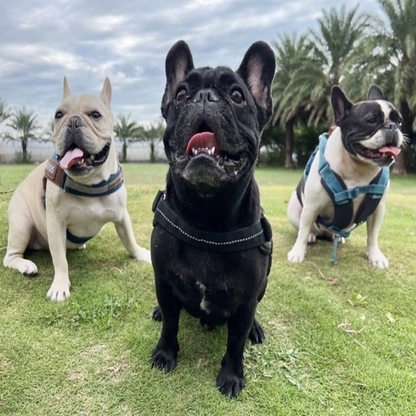bulldog: (148, 37, 279, 400), (1, 72, 150, 303), (283, 82, 405, 271)
